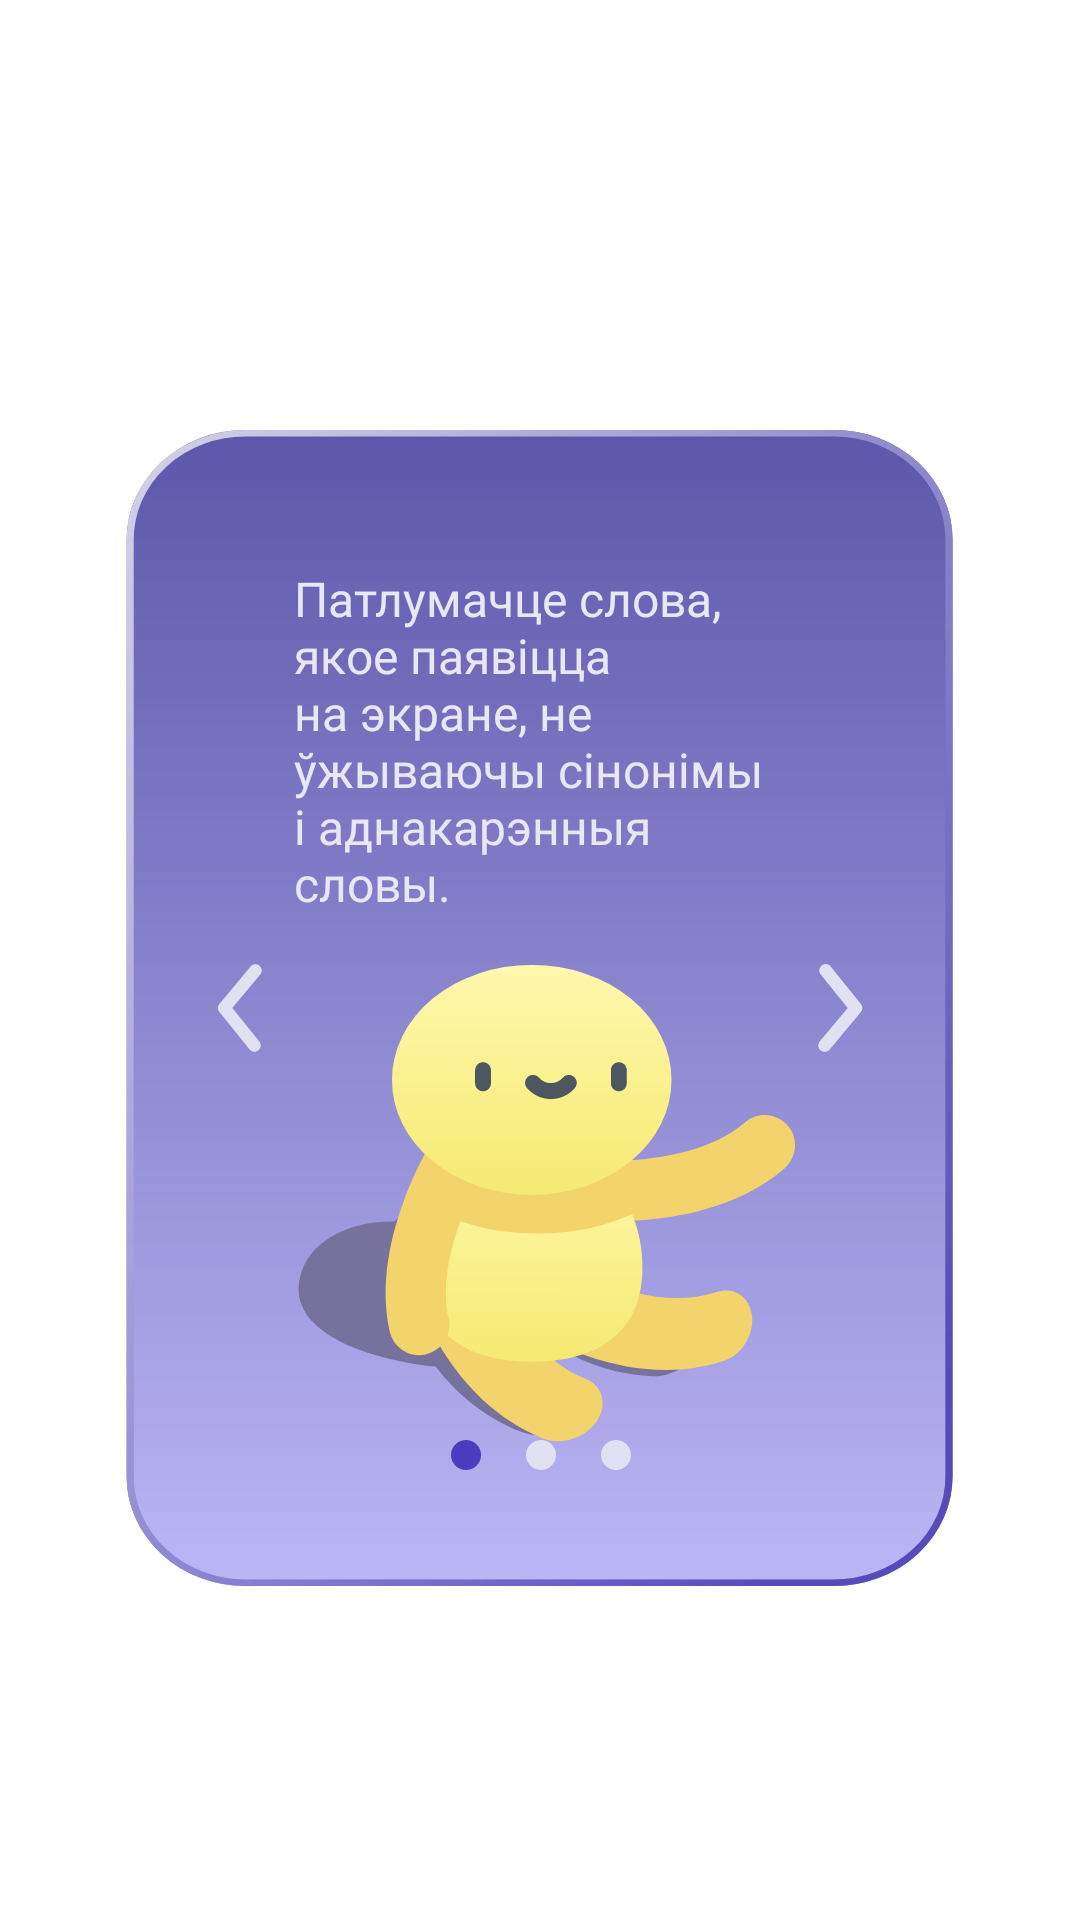

Point at icon controls on the screen. Image size 1080*1920, points as [x,y].
back rules: [240,1008]
next rules: [840,1008]
